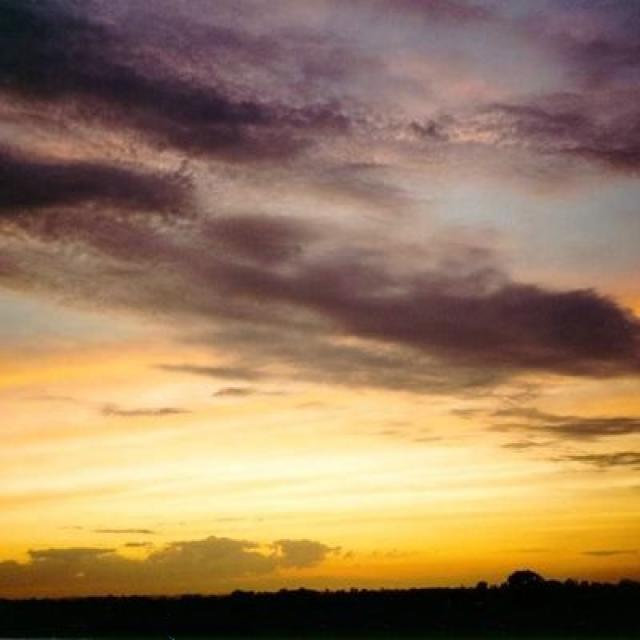Cs: (1, 66, 640, 533)
